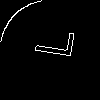L: (25, 25, 75, 60)
